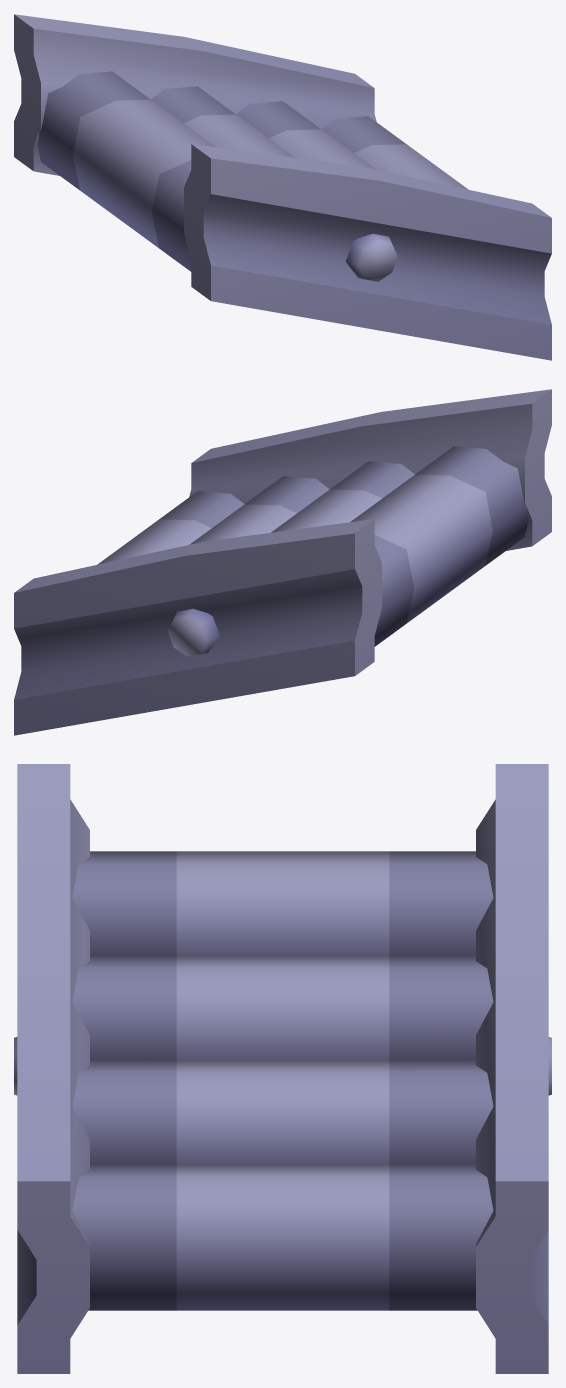
The model's file is kenney-factory-conveyor-bars-stripe-high-slope.glb.
The picture shows the model from 3 angles, top to bottom: view 1: azimuth 30°, elevation 25°; view 2: azimuth 150°, elevation 25°; view 3: azimuth 270°, elevation 25°; orthographic projection. The views are drawn at different scales.
Visible parts, largest first — view 1: conveyor-bars-stripe-high-slope; view 2: conveyor-bars-stripe-high-slope; view 3: conveyor-bars-stripe-high-slope.
Part boxes in pixels (left/top/right/bottom): conveyor-bars-stripe-high-slope: left=14, top=14, right=551, bottom=360; conveyor-bars-stripe-high-slope: left=14, top=389, right=551, bottom=735; conveyor-bars-stripe-high-slope: left=14, top=764, right=551, bottom=1373.
Size of the model in its own units: 1.5 by 1.2 by 1.52.
1 material, 1 textured.
